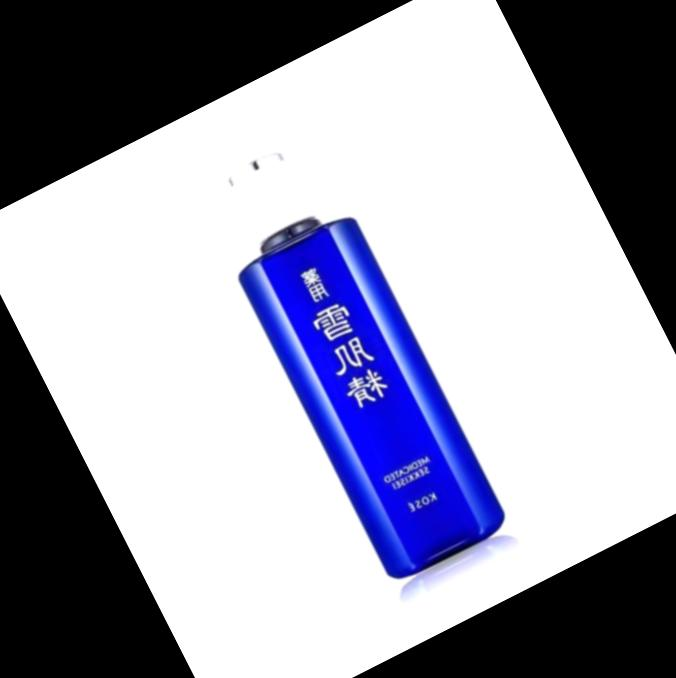cosmetic: (188, 133, 513, 590)
